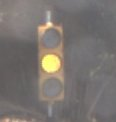Yellow: (33, 16, 64, 110)
